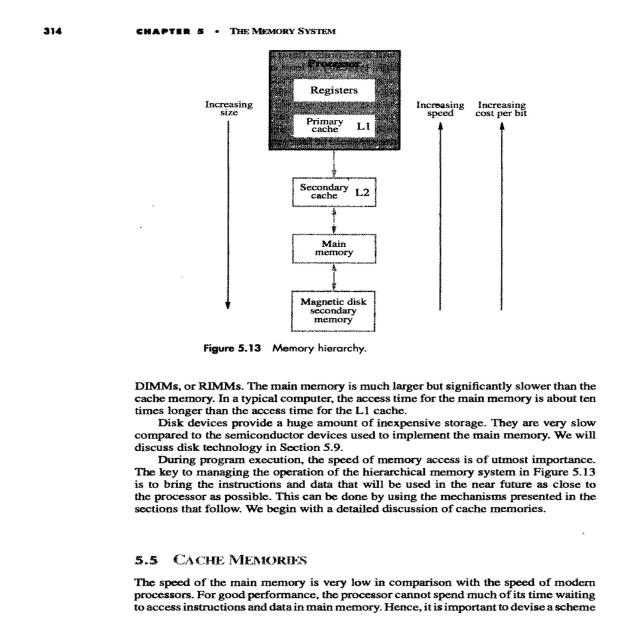diagram: (110, 39, 555, 359)
